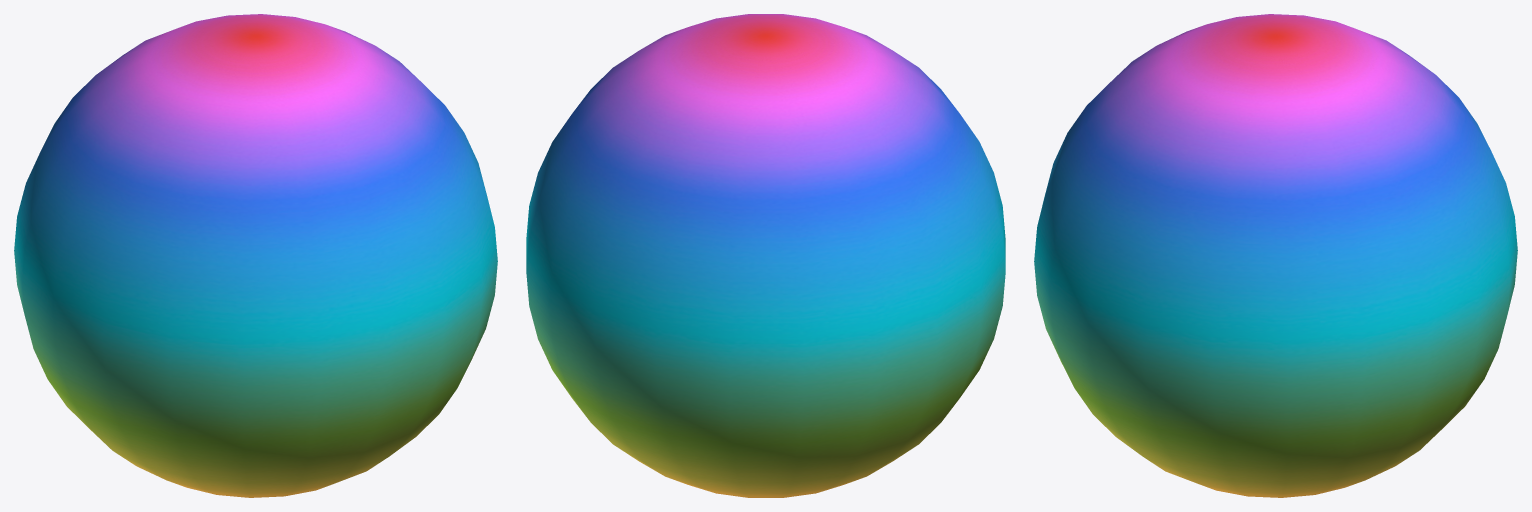
The model's file is planet5.fbx.
The picture shows the model from 3 angles, left to right: view 1: azimuth 30°, elevation 25°; view 2: azimuth 150°, elevation 25°; view 3: azimuth 270°, elevation 25°; orthographic projection.
Parts seen in each view (by area): view 1: planet5; view 2: planet5; view 3: planet5.
Boxes of the visible parts, left/top/right/bottom form: planet5: left=14, top=14, right=497, bottom=497; planet5: left=526, top=14, right=1005, bottom=497; planet5: left=1034, top=14, right=1517, bottom=497.
Bounding box in the file's own units: 54.4 × 54.48 × 54.4.
1 material, 1 textured.
